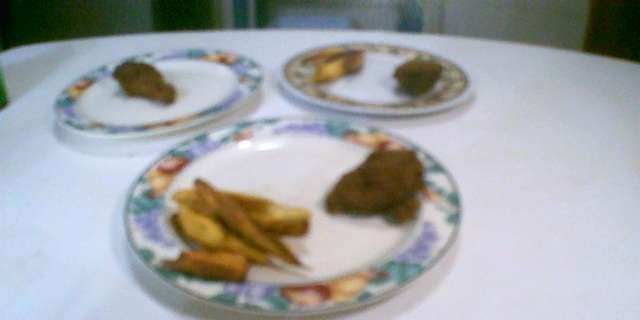chicken: (320, 144, 433, 229), (109, 52, 180, 109), (392, 52, 446, 102)
potatoe_fries: (168, 173, 317, 289), (309, 39, 369, 95)
